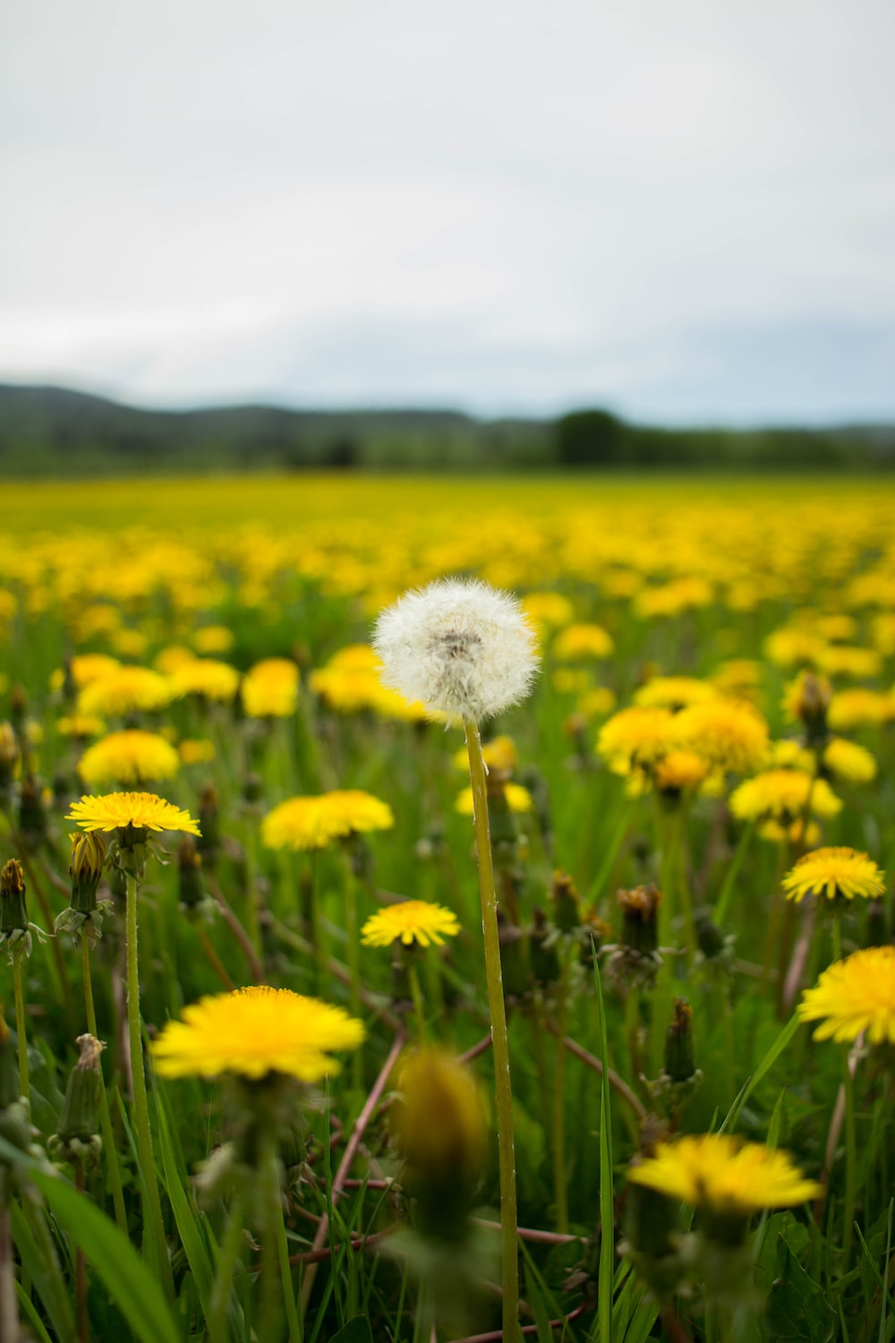begonvil: (141, 959, 378, 1106), (380, 562, 550, 745), (637, 1105, 830, 1232), (607, 669, 784, 805), (786, 947, 895, 1075), (261, 777, 409, 869), (70, 777, 206, 865), (73, 699, 187, 793), (350, 884, 467, 970), (777, 836, 895, 915)
